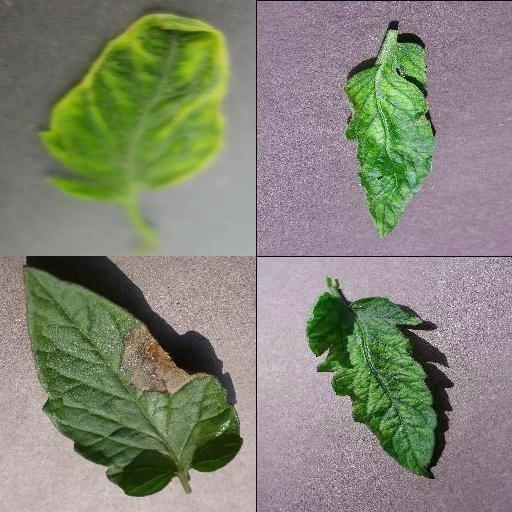Late Blight: (22, 265, 244, 499)
Mosaic Virus: (307, 292, 437, 478), (341, 41, 437, 241)
Yellow Leaf Curl Virus: (39, 11, 229, 205)
